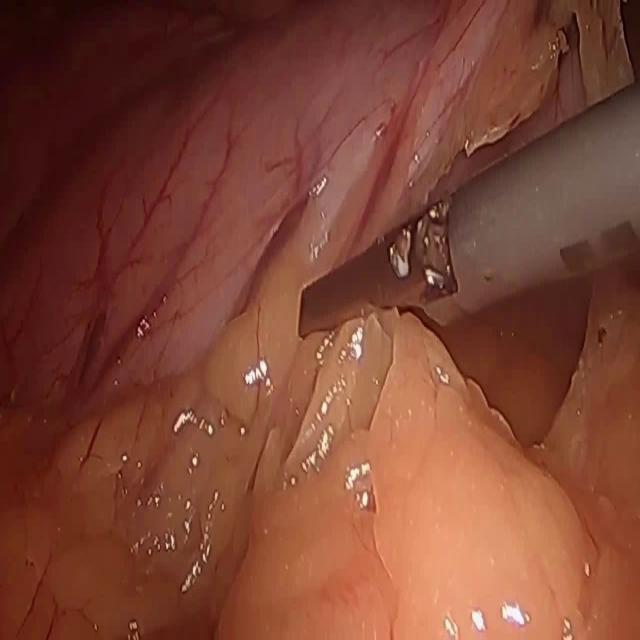surgical-tool: (300, 77, 640, 340)
